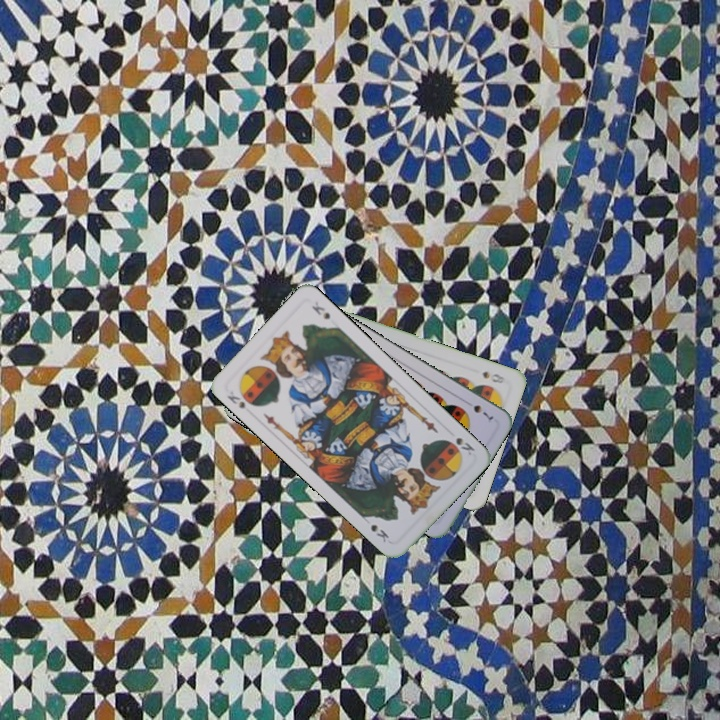S7: (461, 397, 496, 423)
S8: (479, 367, 508, 386)
SK: (452, 433, 477, 459), (223, 387, 249, 412)
